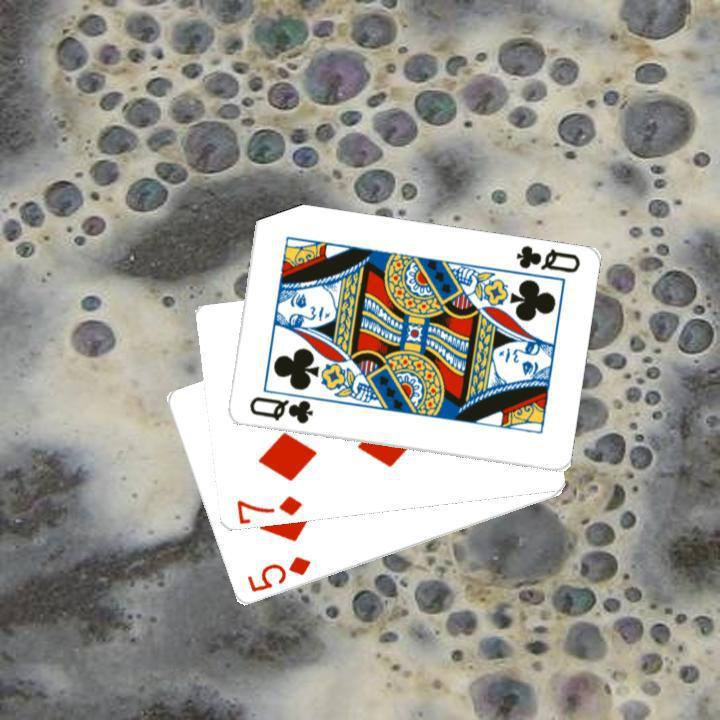5: (242, 552, 313, 595)
7: (231, 492, 304, 523)
Q: (244, 392, 315, 427), (511, 241, 582, 276)
